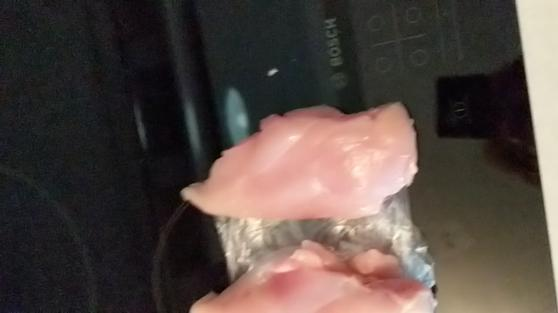chicken_fillet: (179, 101, 418, 222), (187, 240, 435, 313)
